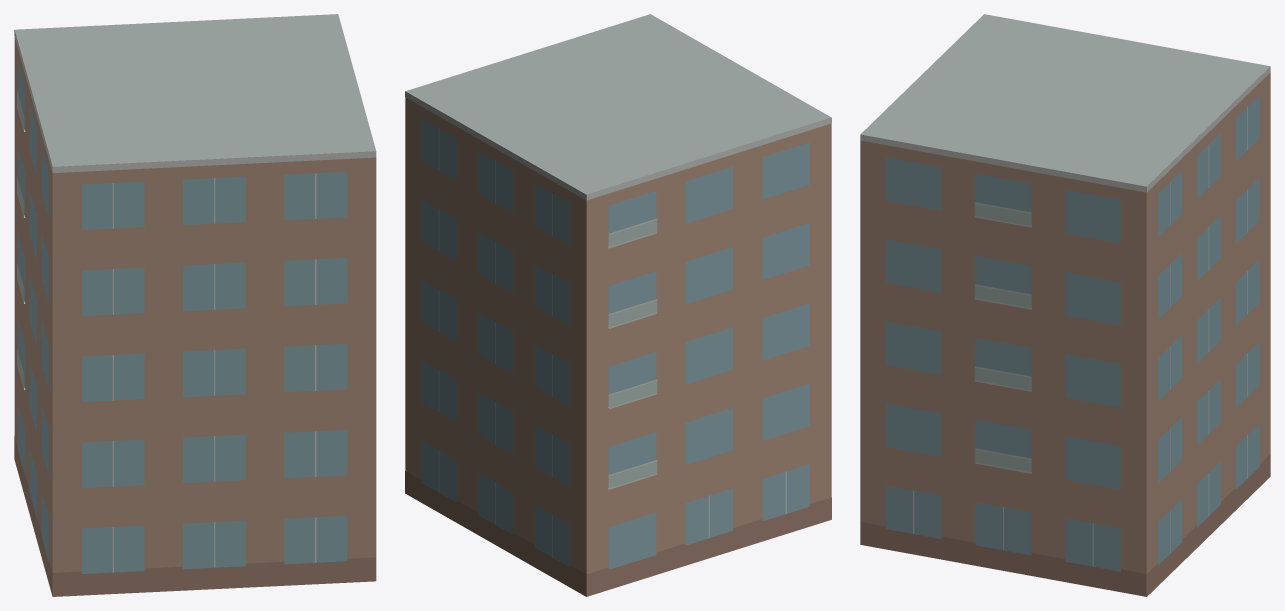
File: survey-upis-32530322.glb
3 renders of one model, left to right at view 1: azimuth 30°, elevation 25°; view 2: azimuth 150°, elevation 25°; view 3: azimuth 270°, elevation 25°, orthographic. The views are drawn at different scales.
Parts seen in each view (by area): view 1: survey-upis-32530322.tmp; view 2: survey-upis-32530322.tmp; view 3: survey-upis-32530322.tmp.
Part boxes in pixels (box(x1,y1,x2,y2)): survey-upis-32530322.tmp: box(14, 14, 376, 596); survey-upis-32530322.tmp: box(405, 14, 831, 596); survey-upis-32530322.tmp: box(860, 14, 1270, 596).
Bounding box in the file's own units: 15.08 × 16.7 × 15.15.
